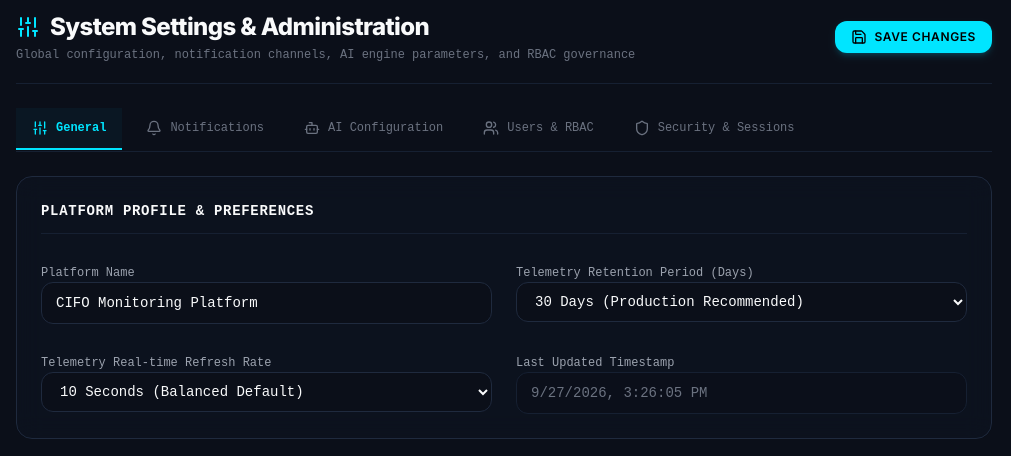
SettingsPage › should switch to Users tab and display user list for admin
Expected: the text "Users & RBAC" is shown, 507,120 -> 594,136
Click the button "Users & RBAC".
click(538, 129)  # box 467,108 -> 610,150
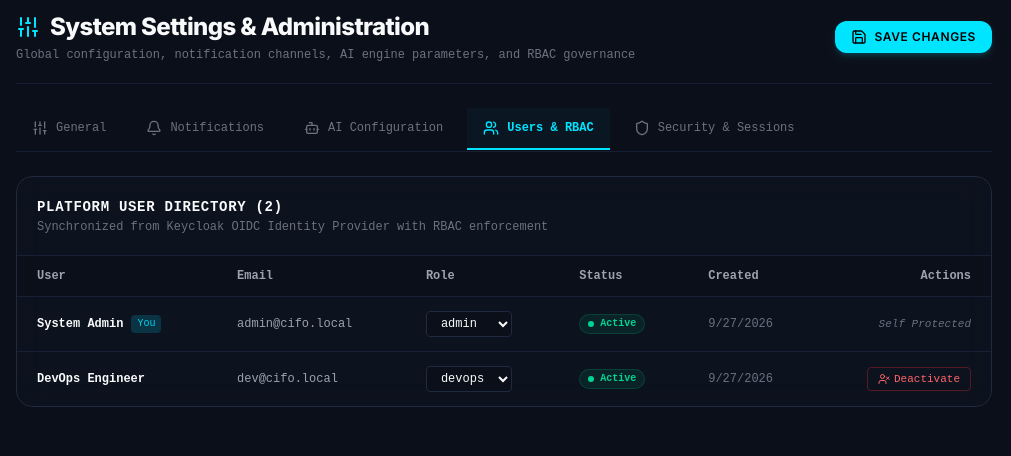
Result: the heading "Platform User Directory (2)" is shown at 37,199 -> 283,215
Result: the text "dev@cifo.local" is shown at 217,352 -> 406,406
